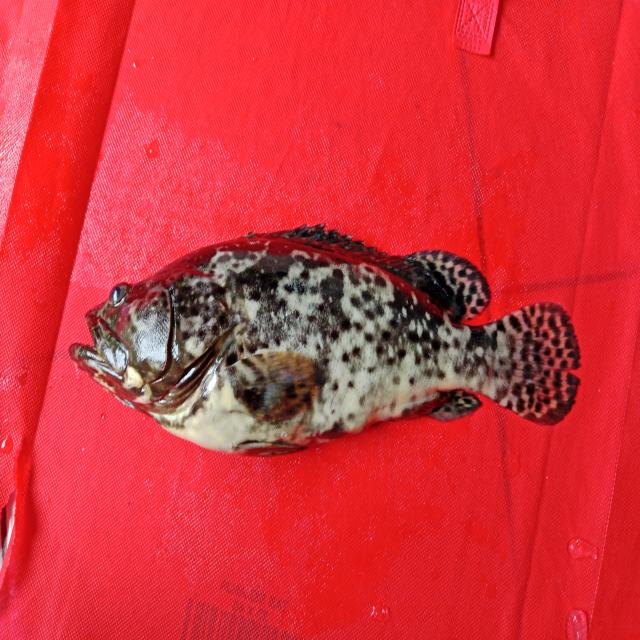ikan: (62, 216, 599, 478)
